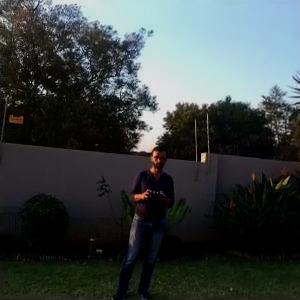follow: (108, 140, 179, 298)
